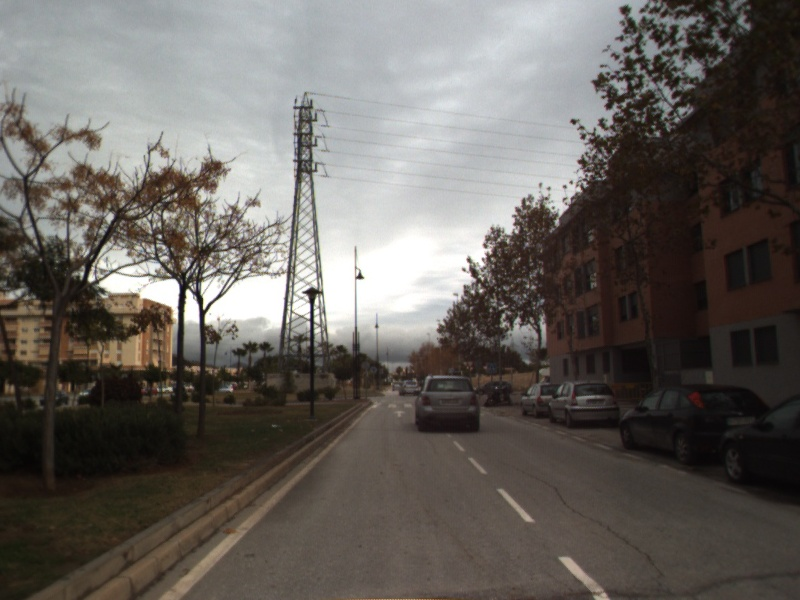STRAIGHT: (392, 408, 407, 419)
